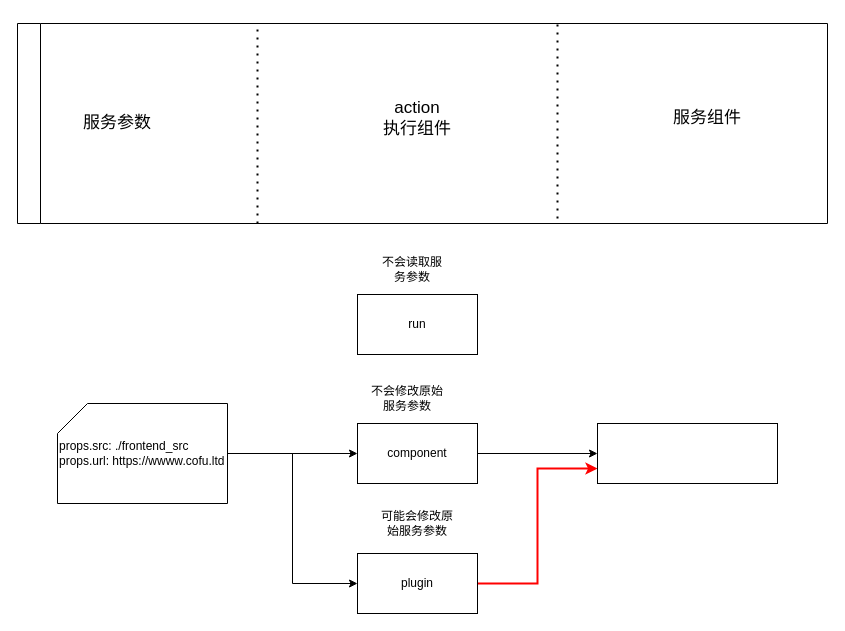
This 845x631 diagram has some shape labels left out. The shapes that lost their labels are listed below. From the top down, each one's box as (x1, y1, x2, y2) in pixels, then its label:
(16, 22, 828, 224): Horizontal Container
(596, 422, 778, 484): component: test-component
